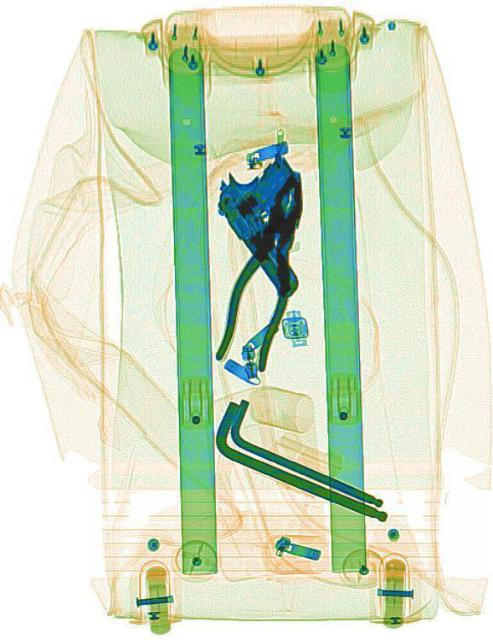Gun: (204, 132, 343, 302)
Pliers: (210, 160, 321, 380)
